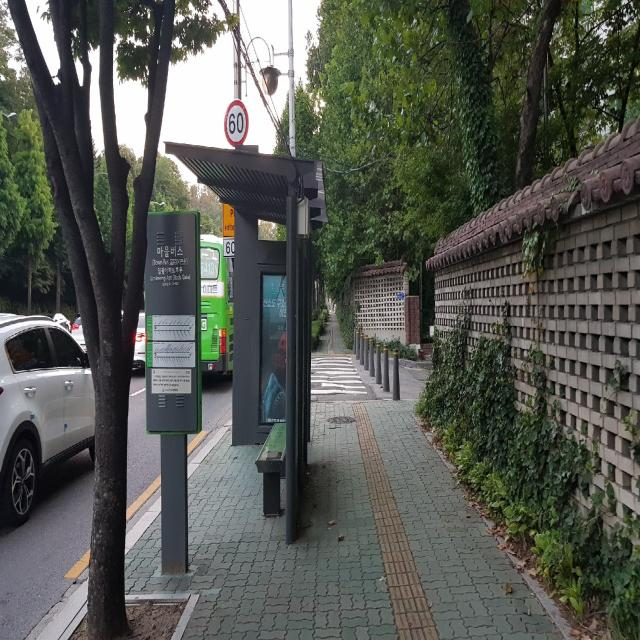횡단보도: (311, 356, 368, 394)
